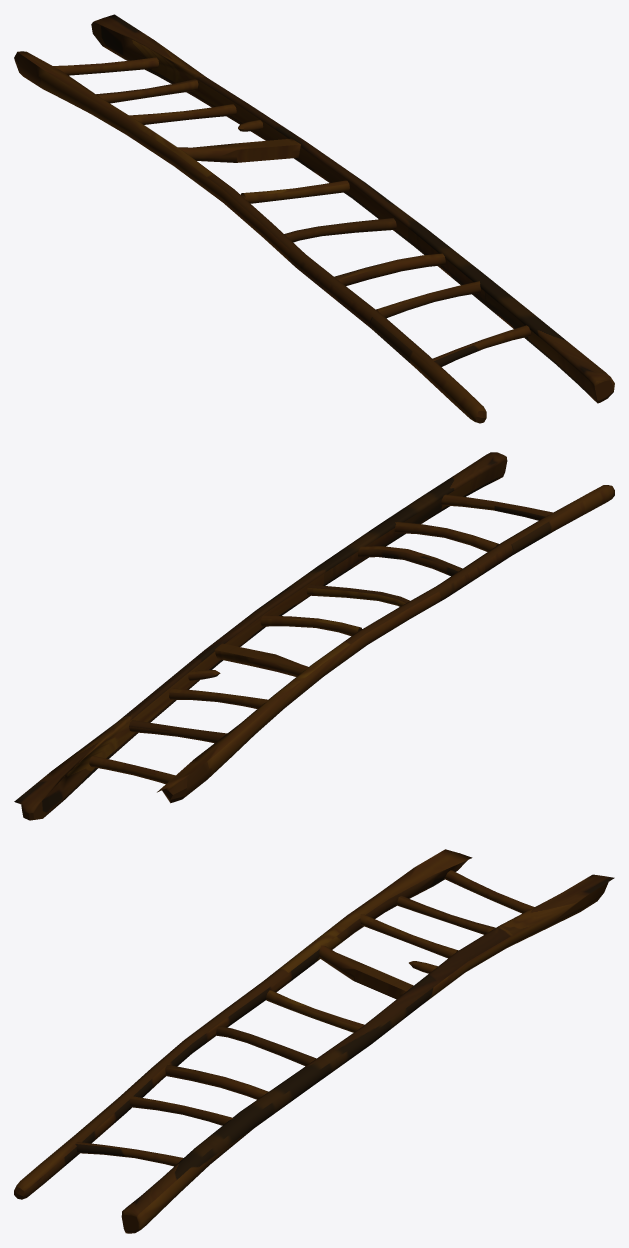
Rendered from merdiven.fbx.
3 renders of one model, top to bottom at view 1: azimuth 30°, elevation 25°; view 2: azimuth 150°, elevation 25°; view 3: azimuth 330°, elevation 25°, orthographic. The views are drawn at different scales.
Parts seen in each view (by area): view 1: merdiven; view 2: merdiven; view 3: merdiven.
Part boxes in pixels (x1,y1,x2,y2): merdiven: (14,14,614,423); merdiven: (14,452,614,820); merdiven: (14,849,614,1233).
Size of the model in its own units: 70.43 by 27.4 by 434.
Materials: 1 (1 with a texture image).
